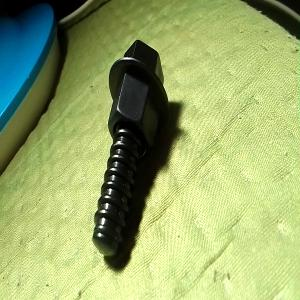parafuso: (92, 39, 170, 259)
